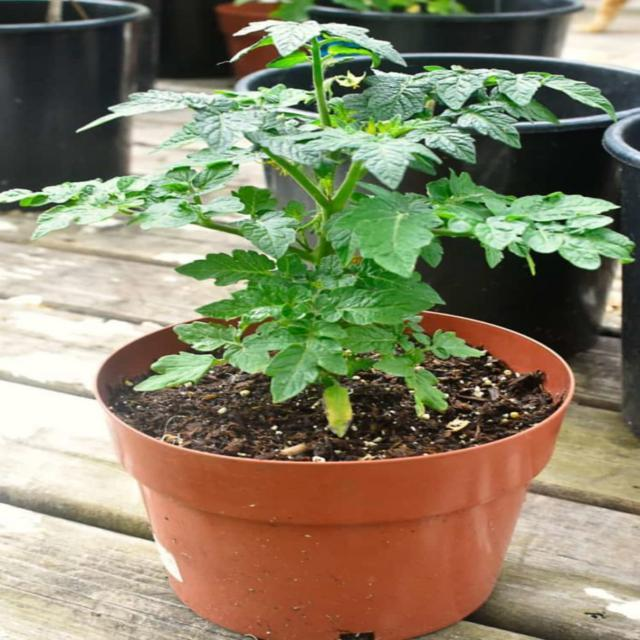tomato: (0, 20, 640, 438)
